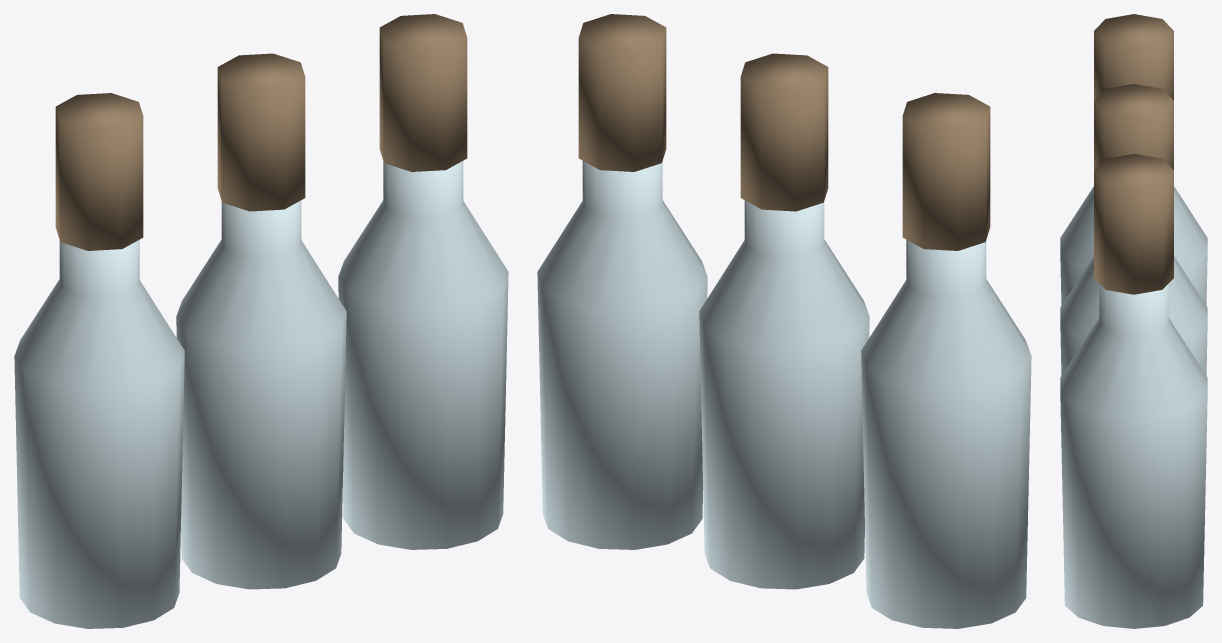
Rendered from potion_triple_blue.glb.
3 views of the same model, side by side, from view 1: azimuth 30°, elevation 25°; view 2: azimuth 150°, elevation 25°; view 3: azimuth 270°, elevation 25° (orthographic). The views are drawn at different scales.
Parts seen in each view (by area): view 1: GD_potion_triple_blue__m0, GD_potion_triple_blue__m2; view 2: GD_potion_triple_blue__m0, GD_potion_triple_blue__m2; view 3: GD_potion_triple_blue__m0, GD_potion_triple_blue__m2.
Part boxes in pixels (x1,y1,x2,y2): GD_potion_triple_blue__m0: [14, 161, 508, 628]; GD_potion_triple_blue__m2: [55, 14, 467, 250]; GD_potion_triple_blue__m0: [537, 161, 1031, 628]; GD_potion_triple_blue__m2: [578, 14, 990, 250]; GD_potion_triple_blue__m0: [1060, 186, 1207, 628]; GD_potion_triple_blue__m2: [1094, 14, 1173, 294].
Bounding box in the file's own units: 0.204 × 0.2 × 0.0624.
